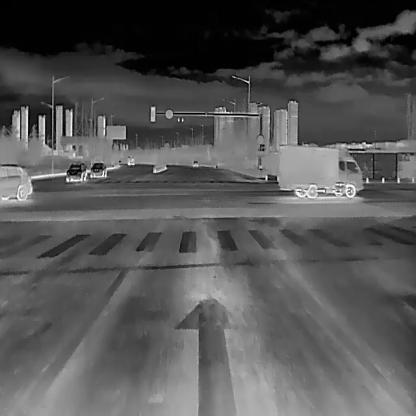car: (276, 144, 362, 197), (0, 163, 32, 199), (65, 161, 87, 181), (88, 161, 106, 177), (126, 154, 134, 165), (191, 158, 198, 166)
crosswalk: (3, 218, 416, 278)
